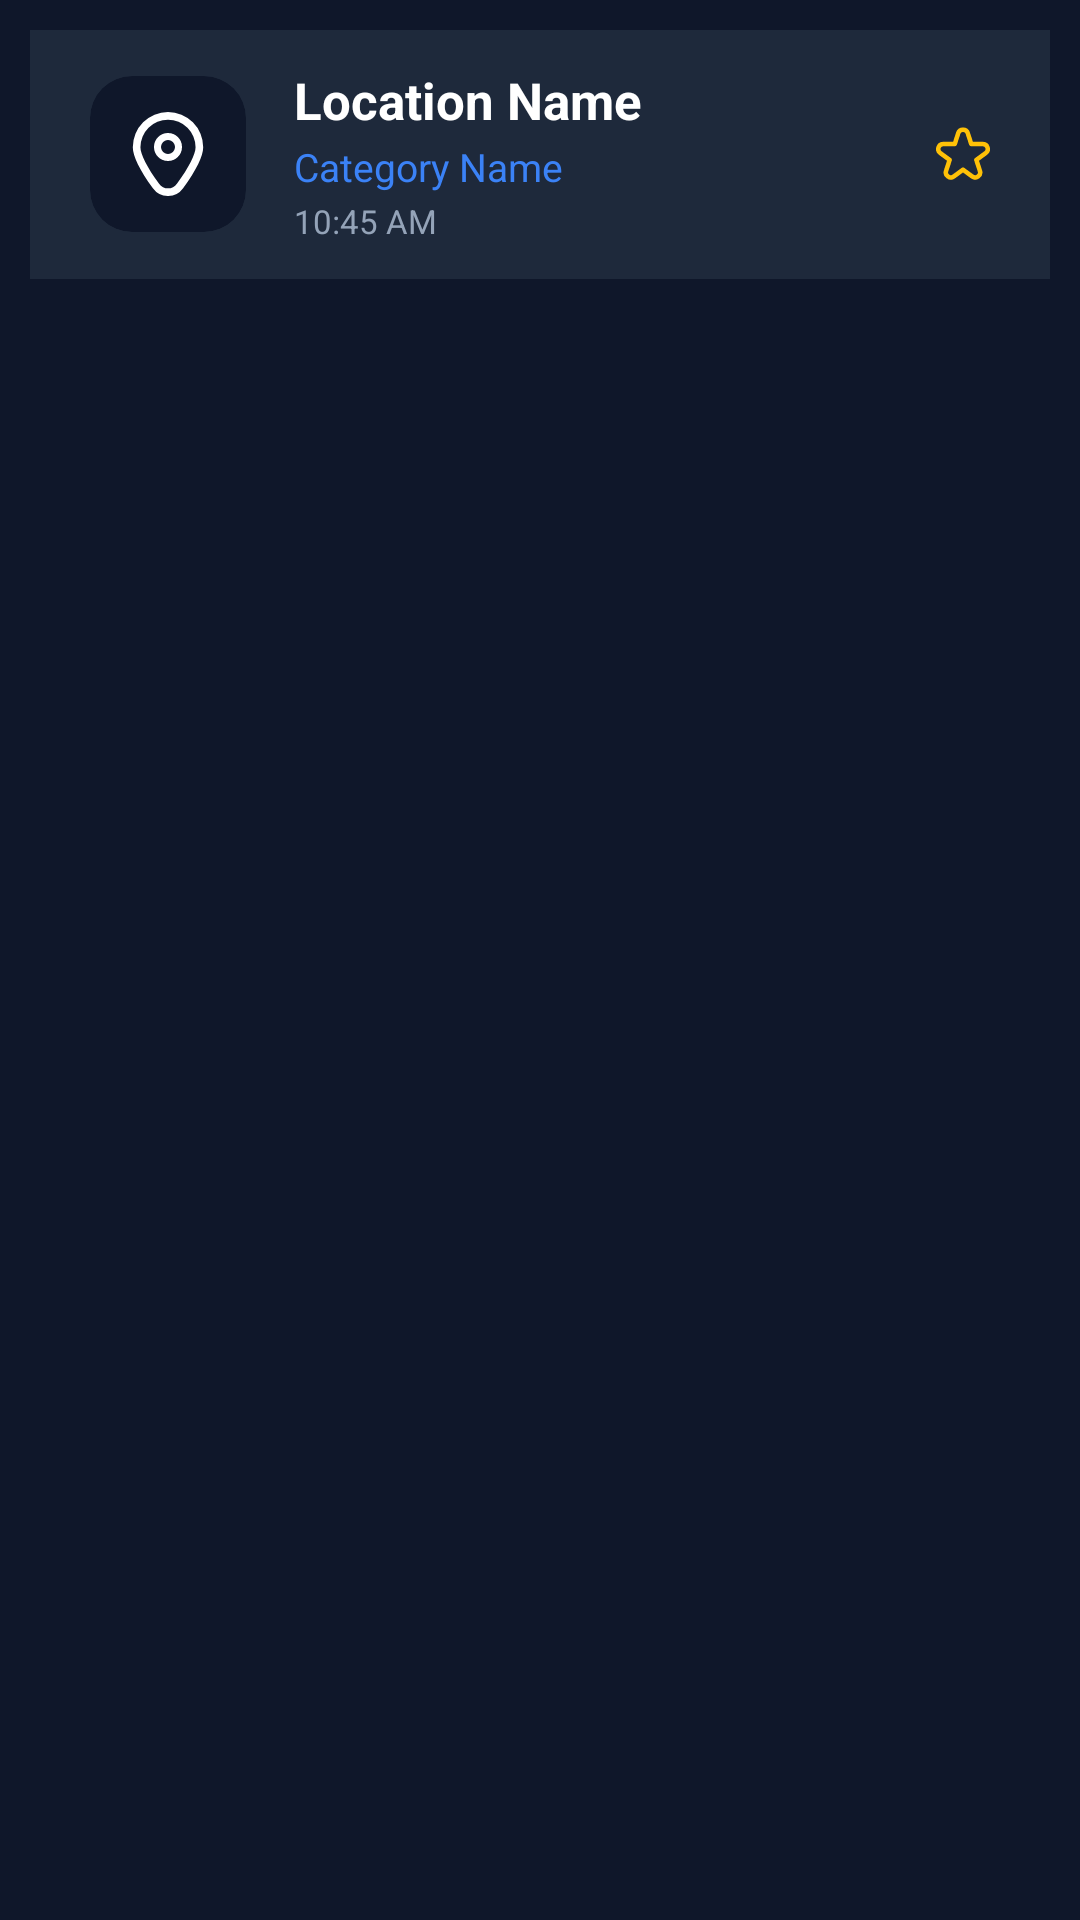

Point at icon controls on the screen. Image size 1080 x 1920, points as [x,y].
marker: [168,154]
star: [963,153]
